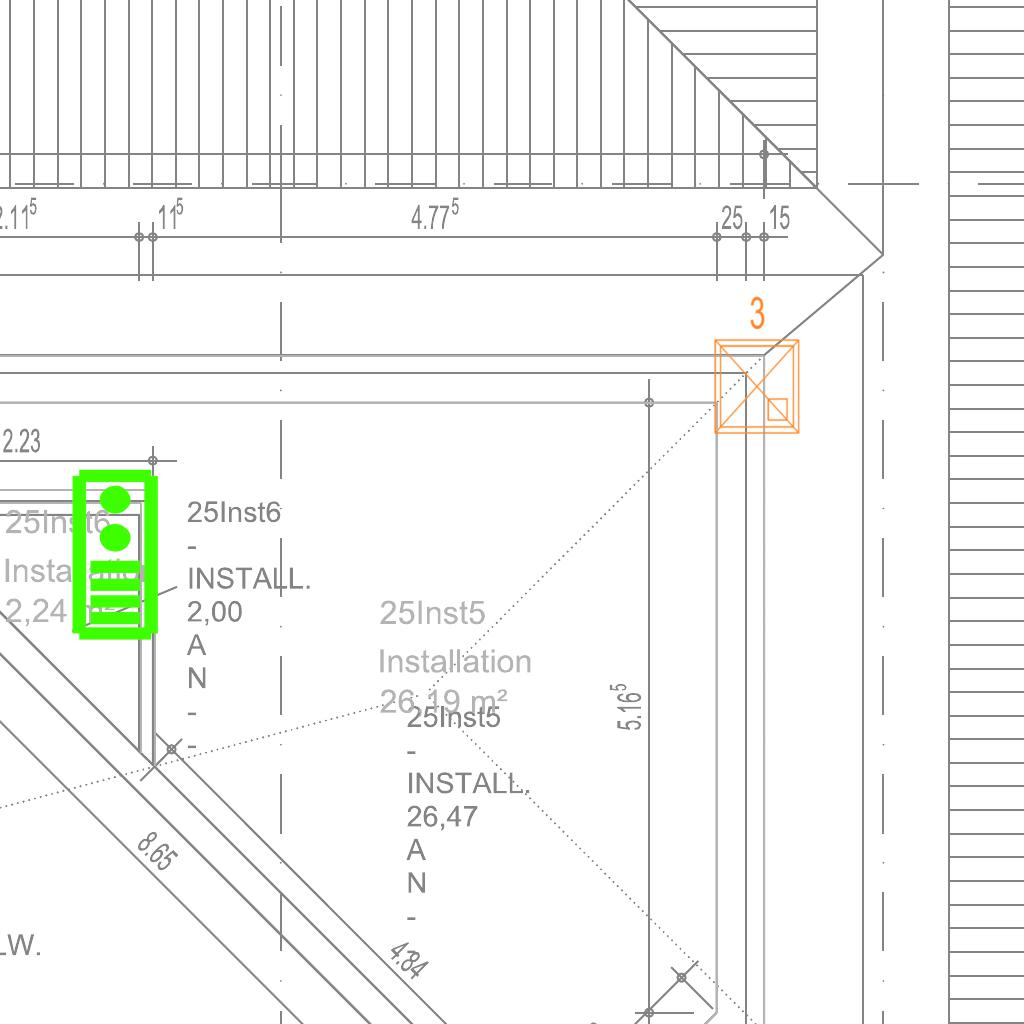Einbaudownlights_LED_Konferenzraeume: (703, 291, 807, 441)
Gegensprechanlage_mit_Video: (66, 466, 161, 642)
